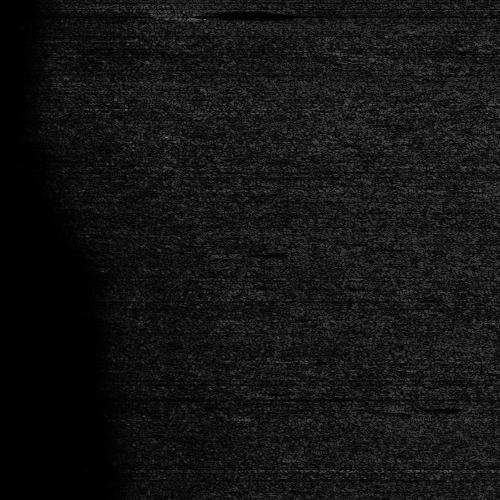rock: (119, 9, 202, 18)
shadow: (161, 9, 301, 18)
